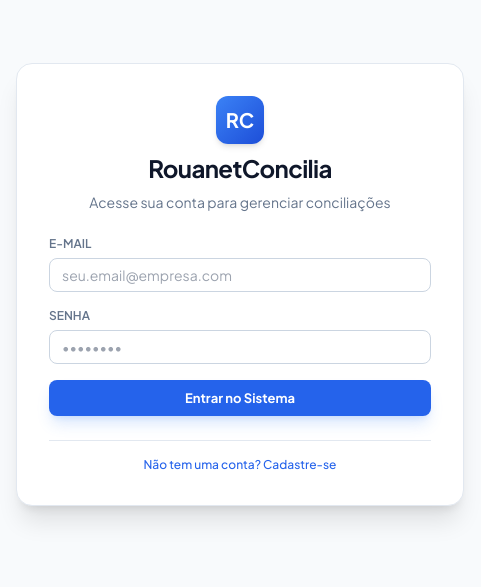
Test: LoginPage › mantém a confirmação visível quando o cadastro não abre sessão
This screenshot has width=481, height=587.
Click the button "Não tem uma conta? Cadastre-se" at (240, 465), box [49,457,431,473]
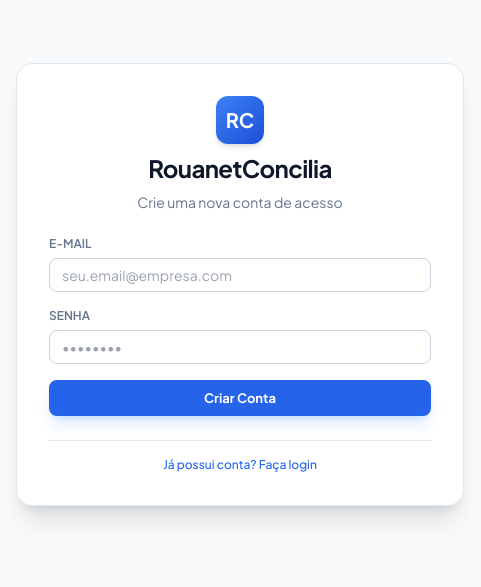
Type "teste@example.com" into the field labelled "E-mail" at (240, 275), box [49,258,431,292]
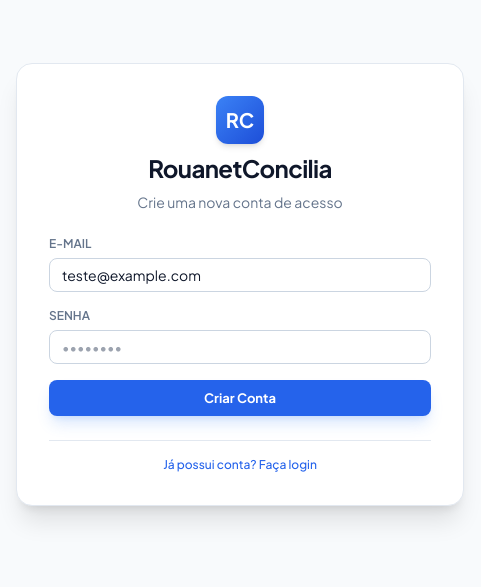
Type "senha-teste" into the password field labelled "Senha" at (240, 347), box [49,330,431,364]
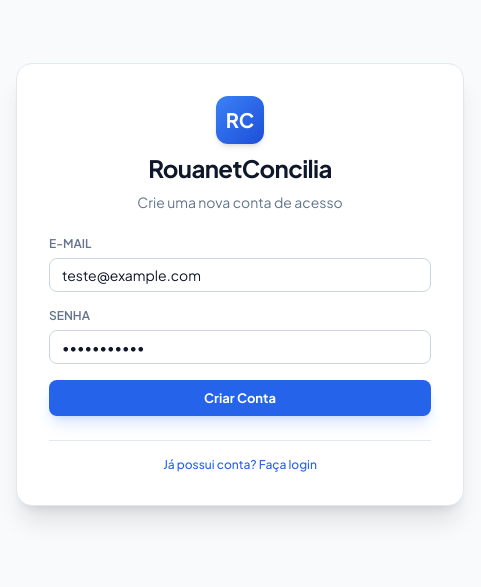
Click the button "Criar Conta" at (240, 398), box [49,380,431,416]
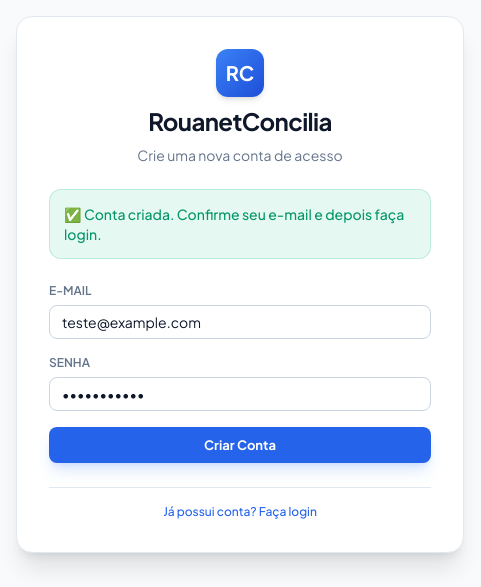
Check: the message shows "Confirme seu e-mail", box [64,205,404,243]
